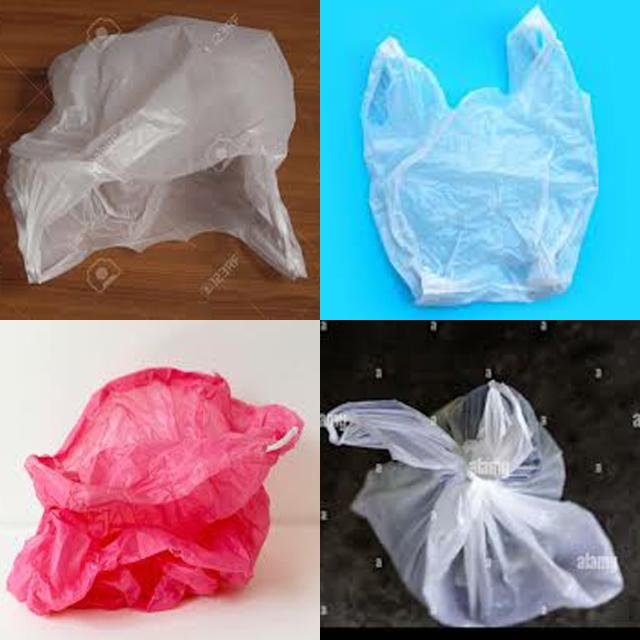Single-layer Plastic: (6, 16, 306, 284), (324, 381, 622, 626), (8, 368, 302, 615), (362, 8, 598, 305)
